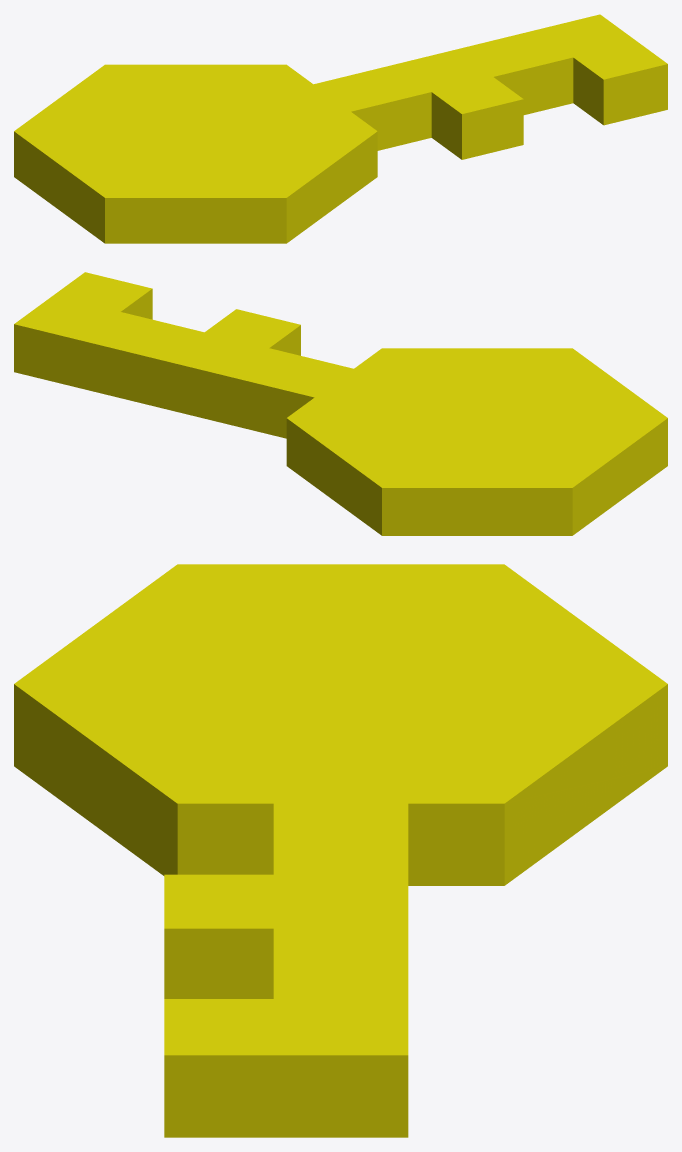
The model's file is Key.fbx.
3 views of the same model, one above another, from view 1: azimuth 30°, elevation 25°; view 2: azimuth 150°, elevation 25°; view 3: azimuth 270°, elevation 25° (orthographic). The views are drawn at different scales.
Parts seen in each view (by area): view 1: Cylinder.002; view 2: Cylinder.002; view 3: Cylinder.002.
Boxes of the visible parts, left/top/right/bottom form: Cylinder.002: left=14, top=14, right=667, bottom=243; Cylinder.002: left=14, top=272, right=667, bottom=535; Cylinder.002: left=14, top=564, right=667, bottom=1137.
Bounding box in the file's own units: 63.95 × 5 × 36.
